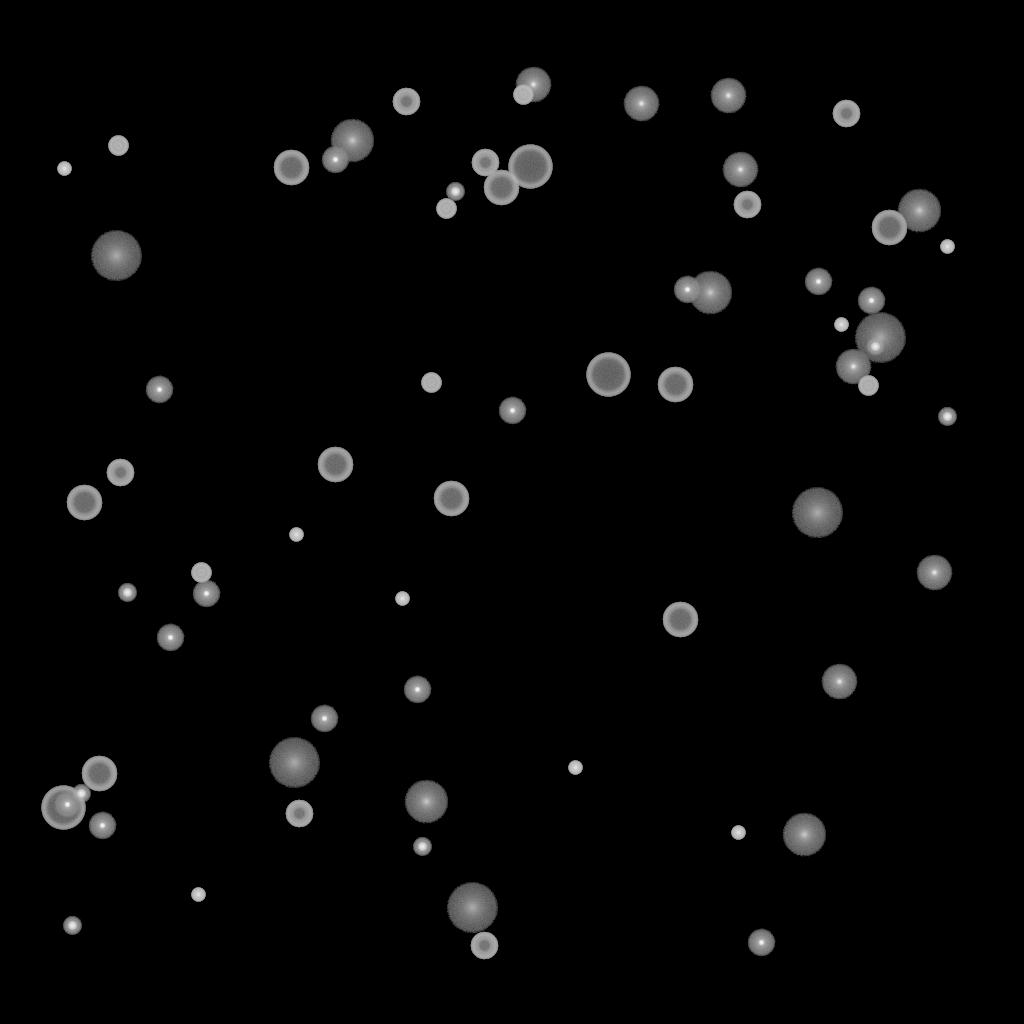depth:-10: (673, 276, 701, 304), (403, 676, 431, 704), (88, 812, 116, 840), (857, 287, 885, 315), (192, 580, 220, 608), (498, 397, 526, 425), (156, 624, 184, 652), (310, 705, 338, 733), (145, 376, 173, 404), (53, 791, 81, 819), (747, 929, 775, 957), (804, 268, 832, 296), (321, 146, 349, 174)
depth:-20: (413, 838, 431, 856), (118, 584, 136, 602), (72, 785, 90, 803), (866, 338, 884, 356), (938, 408, 956, 426), (63, 917, 81, 935), (446, 183, 464, 201)
depth:-30: (191, 888, 205, 902), (731, 826, 745, 840), (289, 528, 303, 542), (940, 240, 954, 254), (834, 318, 848, 332), (395, 592, 409, 606), (568, 761, 582, 775), (57, 162, 71, 176)
depth:-40: (436, 199, 456, 219), (108, 136, 128, 156), (191, 563, 211, 583), (513, 85, 533, 105), (858, 376, 878, 396), (421, 373, 441, 393)
depth:-50: (470, 932, 498, 960), (392, 88, 420, 116), (733, 191, 761, 219), (832, 100, 860, 128), (471, 149, 499, 177), (285, 800, 313, 828), (106, 459, 134, 487)
depth:-60: (273, 150, 309, 186), (483, 170, 519, 206), (433, 481, 469, 517), (657, 367, 693, 403), (317, 447, 353, 483), (662, 602, 698, 638), (81, 756, 117, 792), (871, 210, 907, 246), (66, 485, 102, 521)
depth:-70: (586, 353, 630, 397), (41, 786, 85, 830), (508, 145, 552, 189)
depth:0: (710, 78, 746, 114), (515, 67, 551, 103), (835, 349, 871, 385), (623, 86, 659, 122), (916, 555, 952, 591), (821, 664, 857, 700), (722, 152, 758, 188)
depth:10: (688, 271, 732, 315), (897, 189, 941, 233), (782, 813, 826, 857), (404, 780, 448, 824), (330, 119, 374, 163)
depth:20: (791, 488, 843, 538), (90, 231, 142, 281), (268, 738, 320, 788), (446, 883, 498, 933), (854, 313, 906, 363)
